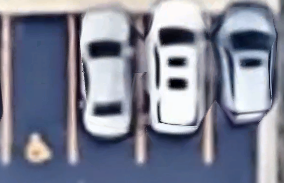Occupied: (71, 15, 140, 163), (140, 15, 209, 163), (209, 16, 270, 163)
Vacant: (5, 15, 72, 163)
